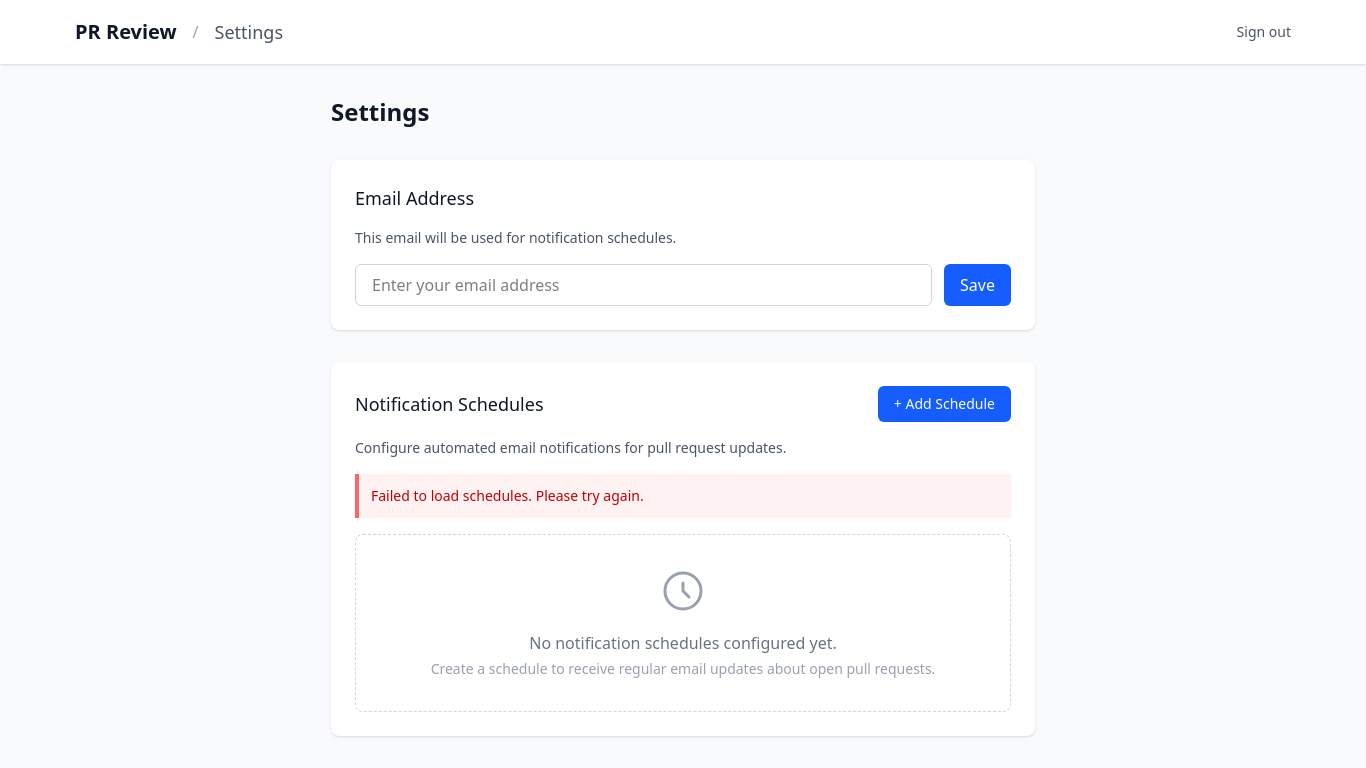
Test: Settings › shows validation error for empty email
Click the button "Save" at (978, 285), box [944,264,1011,306]
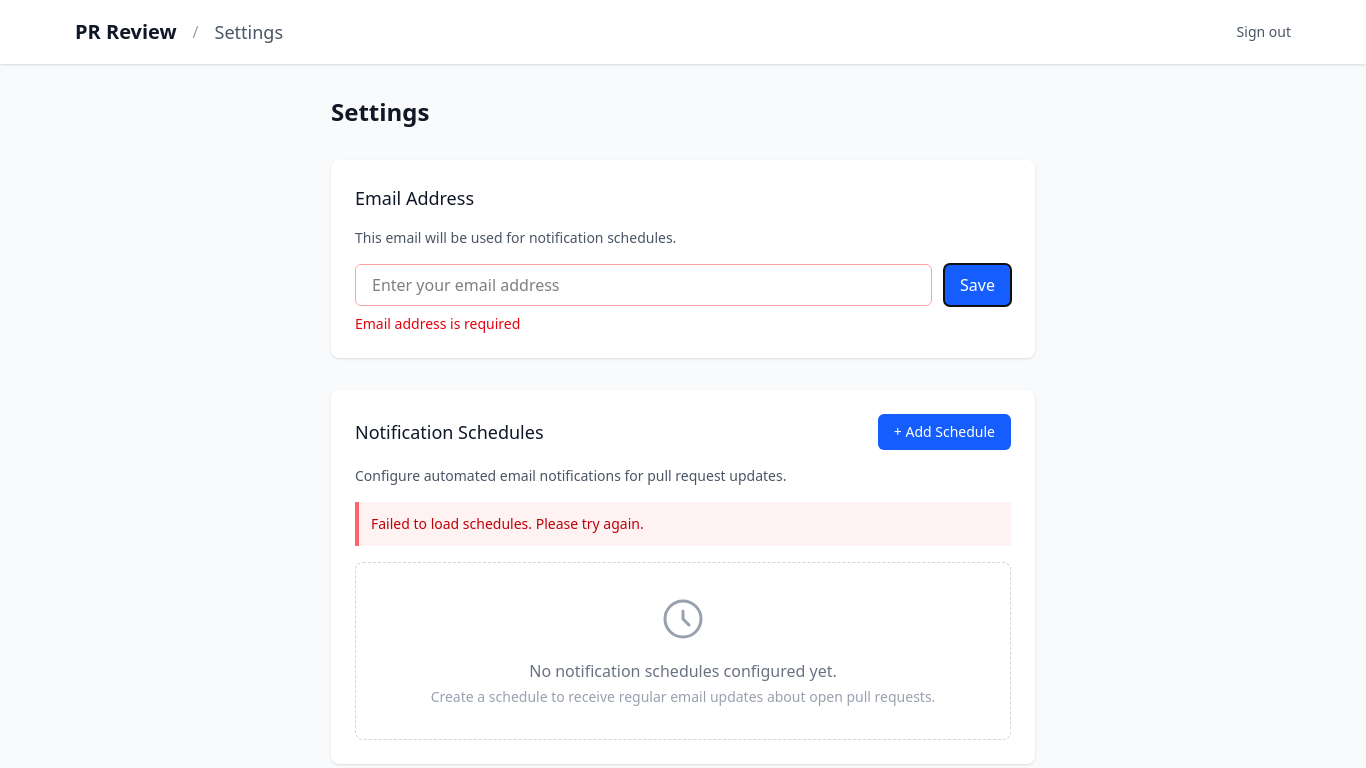
Now the text "Email address is required" is shown, box [355,314,520,333]
